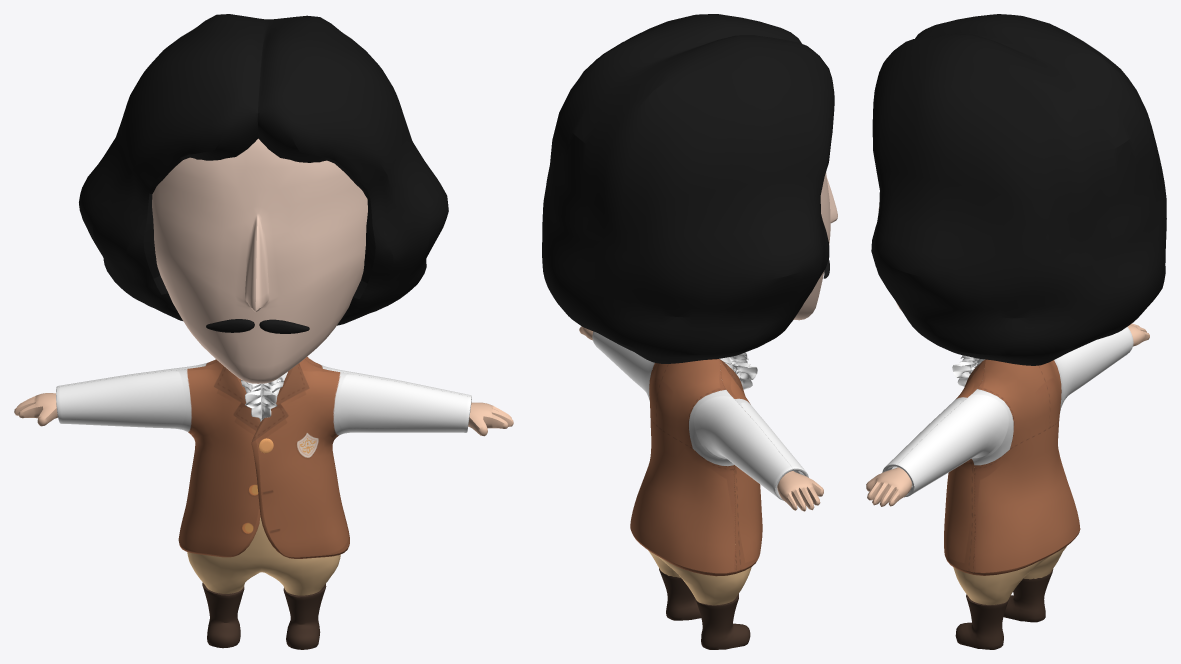
The picture shows the model from 3 angles, left to right: view 1: azimuth 30°, elevation 25°; view 2: azimuth 150°, elevation 25°; view 3: azimuth 270°, elevation 25°; orthographic projection. The views are drawn at different scales.
Parts seen in each view (by area): view 1: 头发, 欧, 面部, 裤子, 鞋子, 手, 领带, 胡子; view 2: 头发, 欧, 鞋子, 裤子, 手, 面部, 领带; view 3: 头发, 欧, 鞋子, 裤子, 手, 领带.
Boxes of the visible parts, x1,y1,x2,y2 form: 头发: [79, 14, 448, 325]; 欧: [56, 356, 471, 558]; 面部: [152, 138, 367, 383]; 裤子: [187, 517, 340, 595]; 鞋子: [202, 582, 326, 649]; 手: [14, 393, 513, 436]; 领带: [241, 376, 283, 421]; 胡子: [206, 319, 309, 333]; 头发: [542, 14, 834, 363]; 欧: [592, 331, 808, 576]; 鞋子: [659, 568, 750, 649]; 裤子: [648, 450, 751, 605]; 手: [579, 326, 823, 511]; 面部: [793, 172, 837, 320]; 领带: [729, 352, 757, 389]; 头发: [871, 14, 1166, 365]; 欧: [882, 327, 1133, 575]; 鞋子: [955, 569, 1053, 649]; 裤子: [953, 546, 1066, 604]; 手: [866, 323, 1149, 506]; 领带: [952, 355, 978, 387].
Size of the model in its own units: 254 by 401 by 184.
8 materials, 1 textured.
